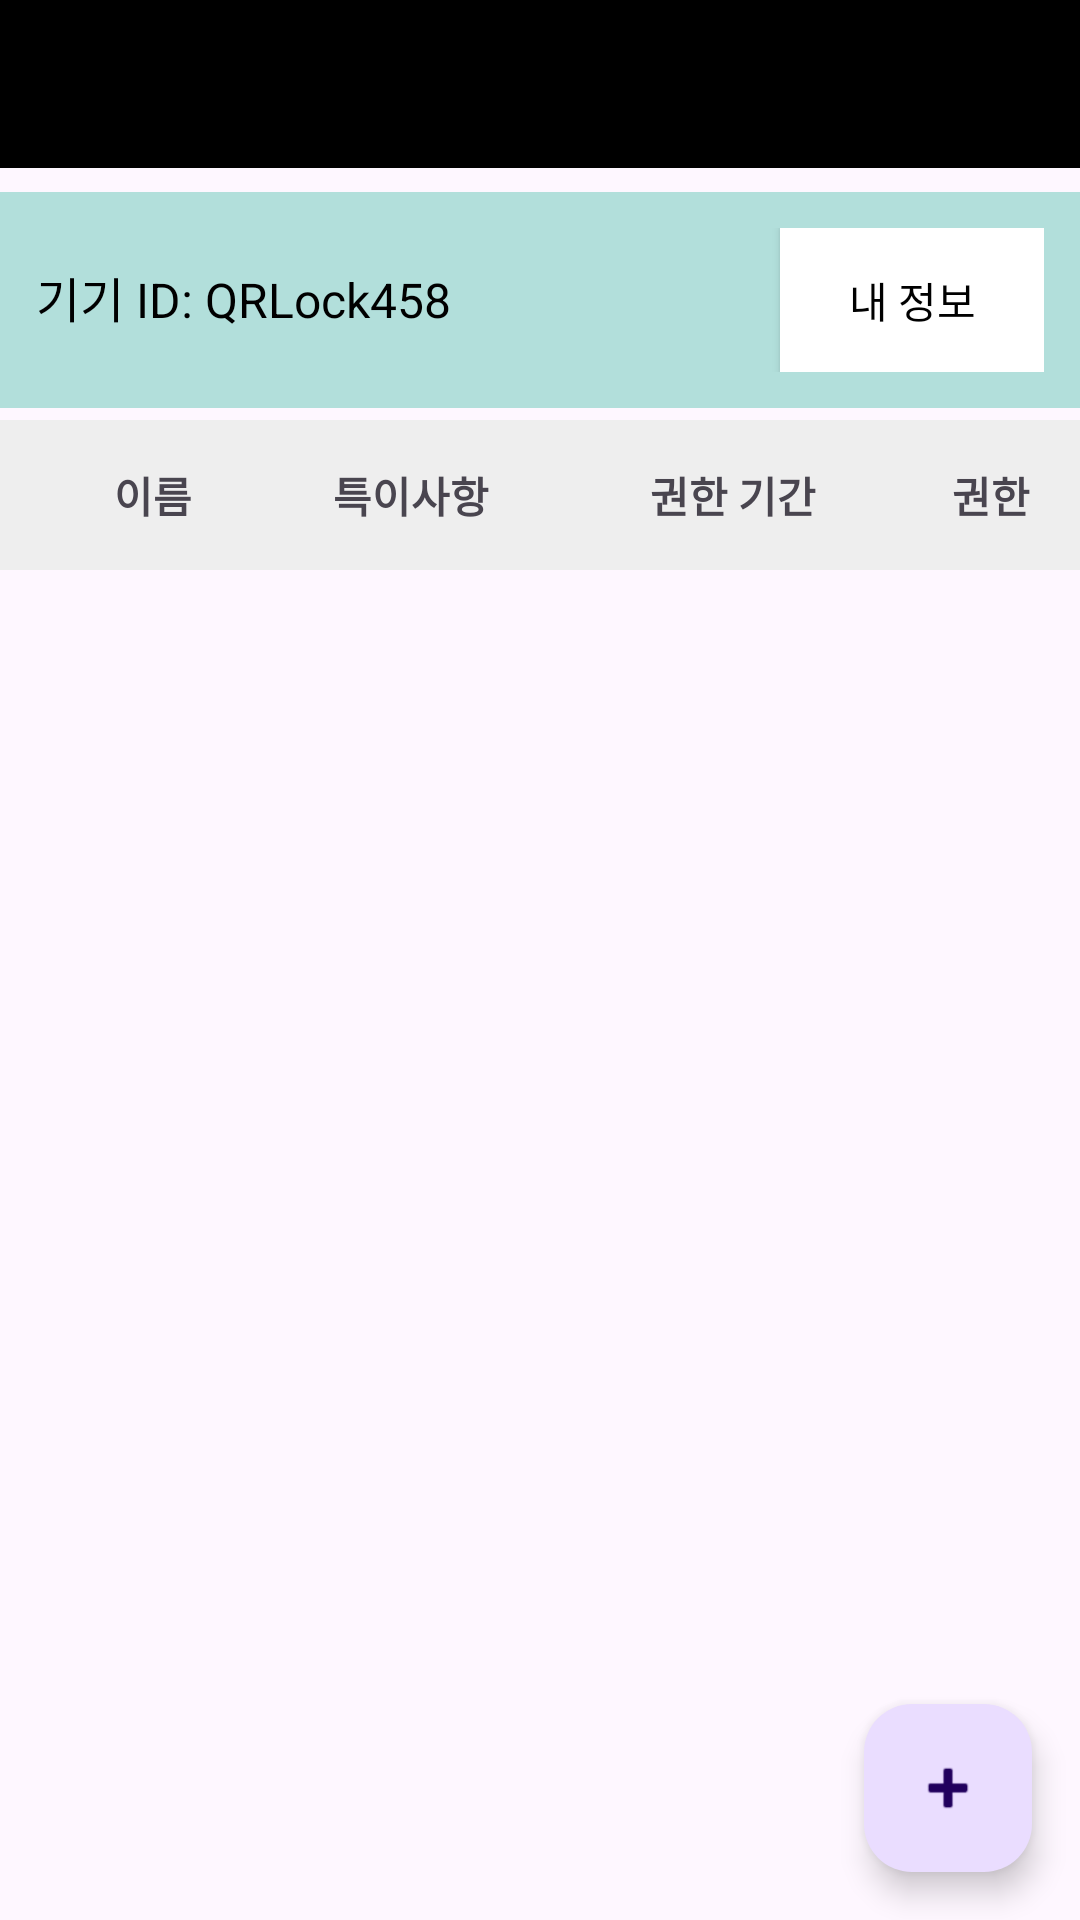

Named icons in this screenshot (1080 × 1920) and their centers, point (x, y):
사용자 추가: point (948, 1788)
